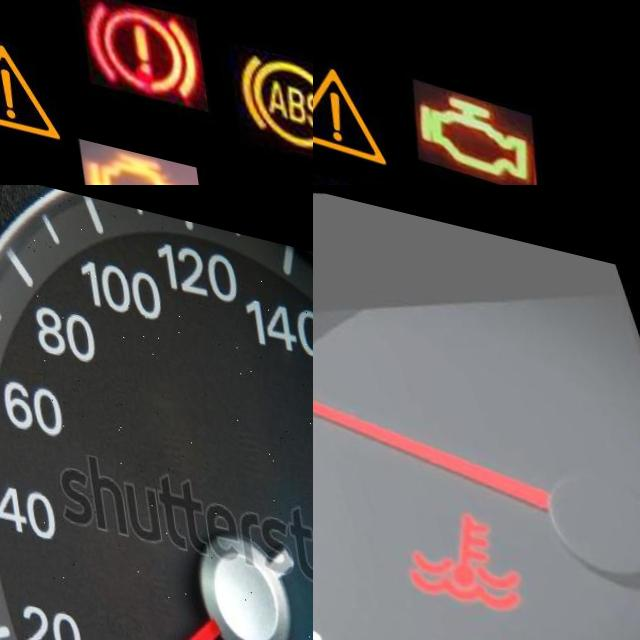Central Warning lamp: (313, 24, 401, 174), (0, 5, 65, 146)
Engine cooling system: (375, 469, 533, 627)
